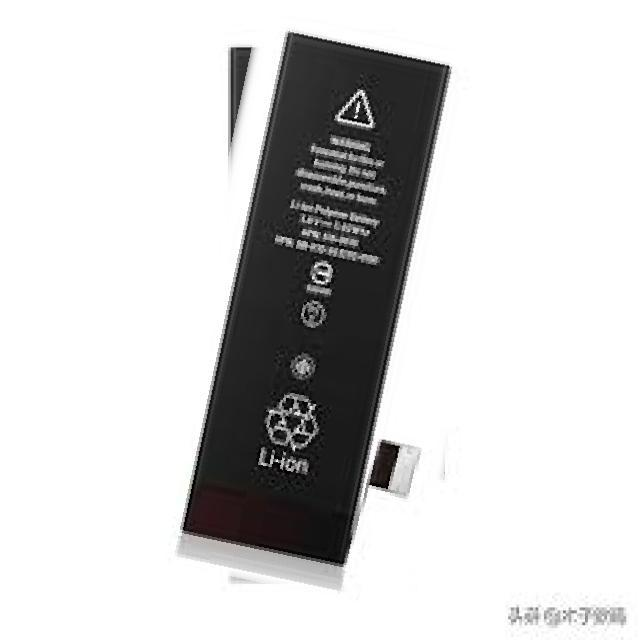Battery: (173, 29, 455, 591)
